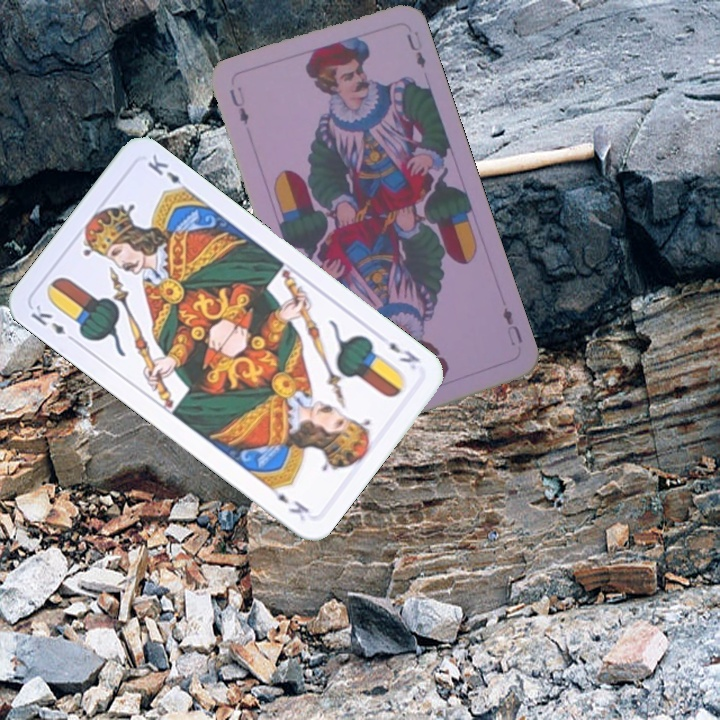EK: (26, 300, 79, 346), (384, 337, 423, 366)
EU: (498, 303, 526, 348), (225, 82, 252, 127)
